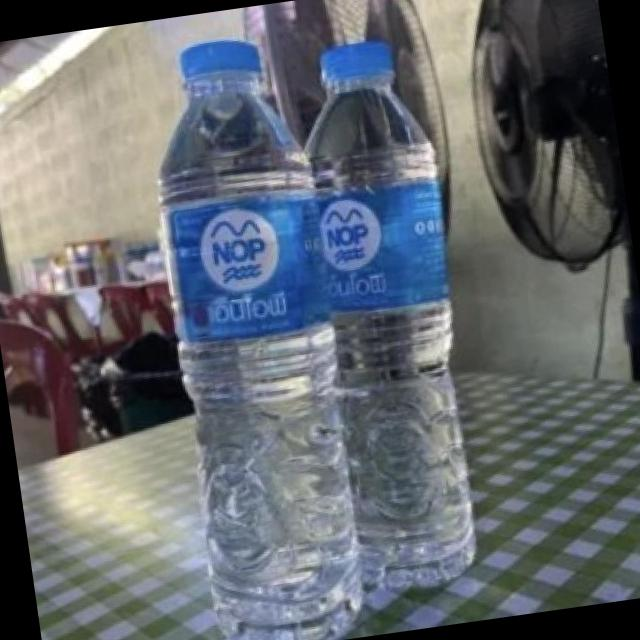plastic_bottle: (134, 29, 379, 640), (288, 35, 498, 598)
